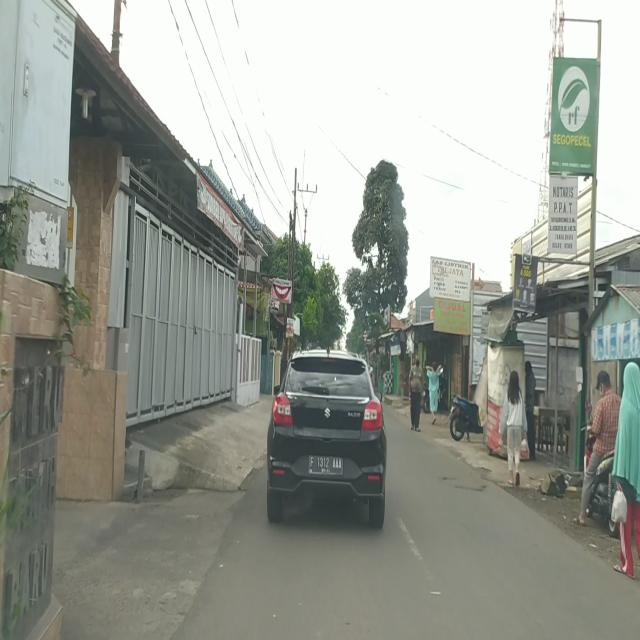Sewer Cover: (452, 483, 488, 492), (438, 476, 468, 481)
